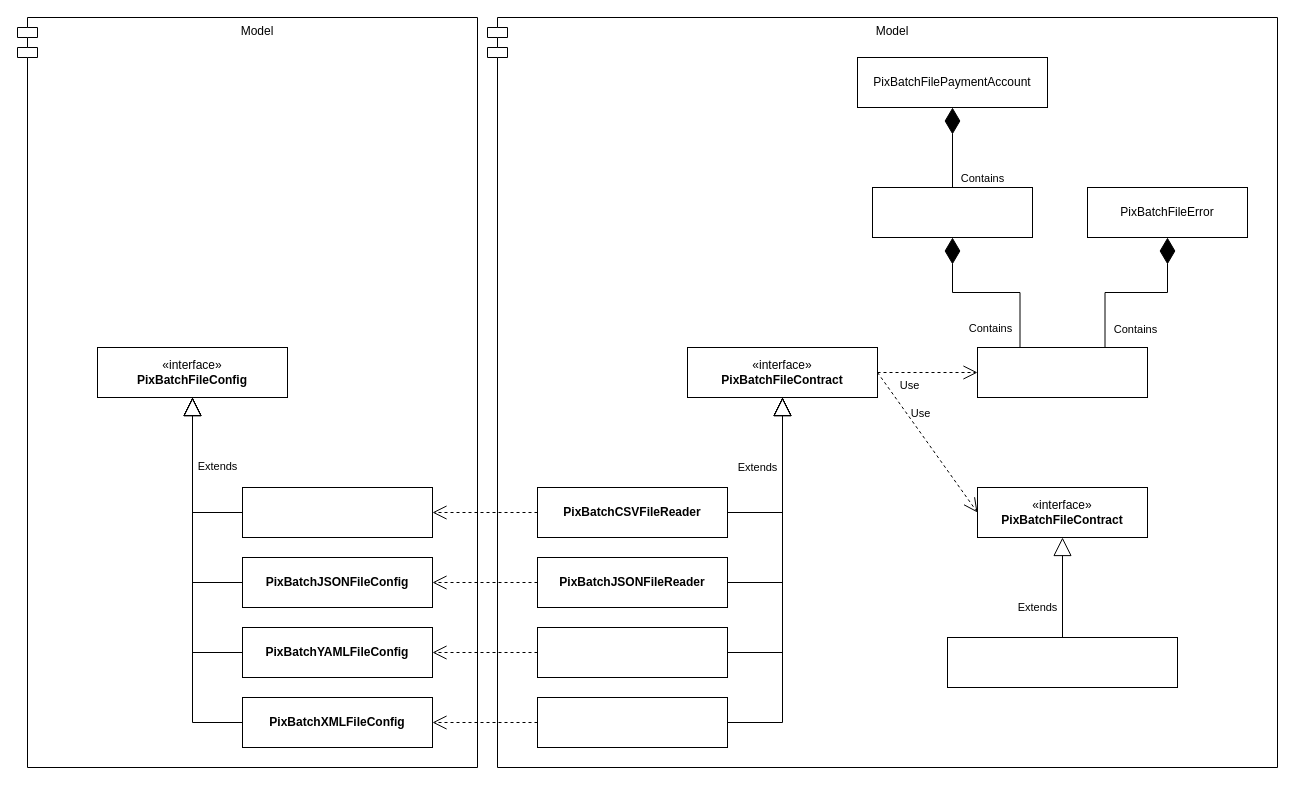
The diagram is 1295 pixels wide and 785 high, and some of its shapes have lost their labels. Here are the shapes that lost their labels. From the top down, the centre of each, then its label:
At (952,212): "PixBatchFilePayment".
At (1062,372): "PixBatchFileResult".
At (337,512): "PixBatchCSVFile Config".
At (632,652): "PixBatchYAMLFile Reader".
At (1062,662): "PixBatchPaymentFromFileValidator".
At (632,722): "PixBatchXMLFile Reader".
